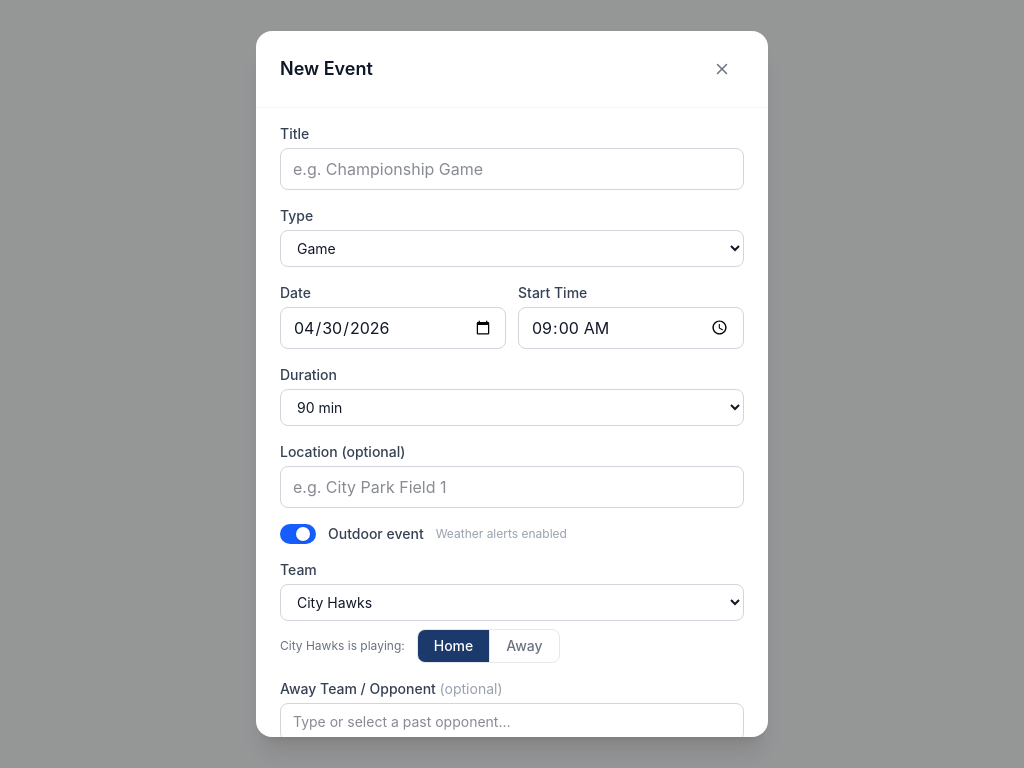
Test case: EventForm — required field validation › shows start time required error when startTime field is cleared and form submitted
Note: Clear the start time field (it has a default value)
Clear the time field labelled "Start Time" at point(631, 328), box [518,307,744,349]
(page scrolled)
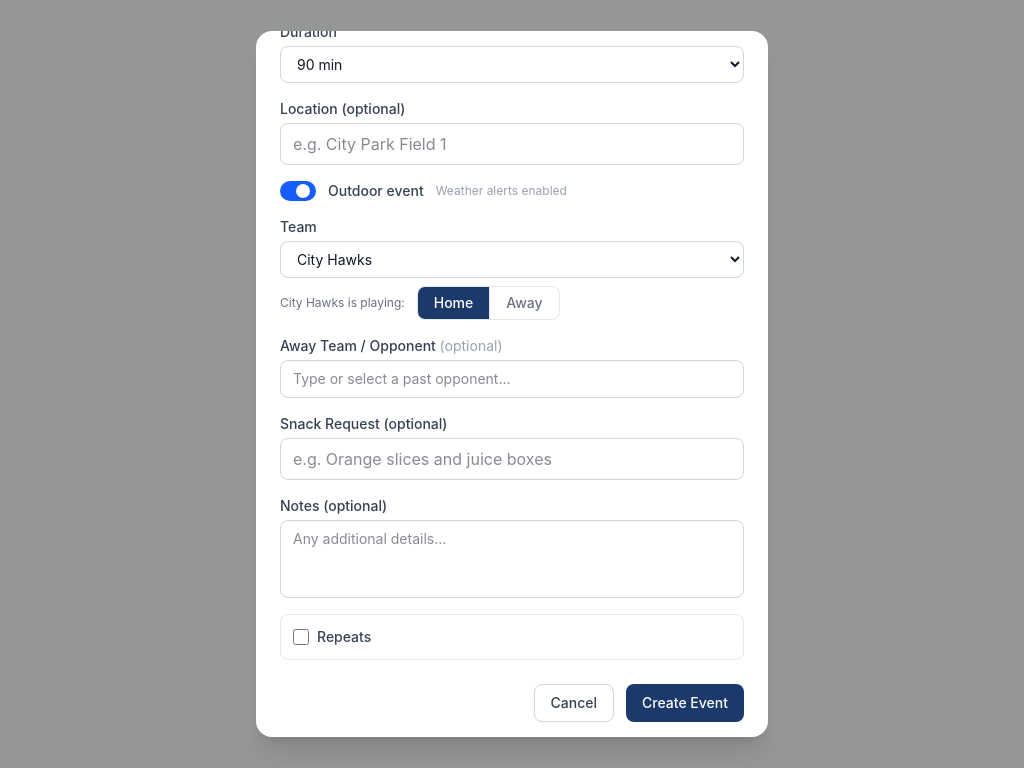
Click the button "Create Event" at point(685, 703), box [626,684,744,722]
(page scrolled)
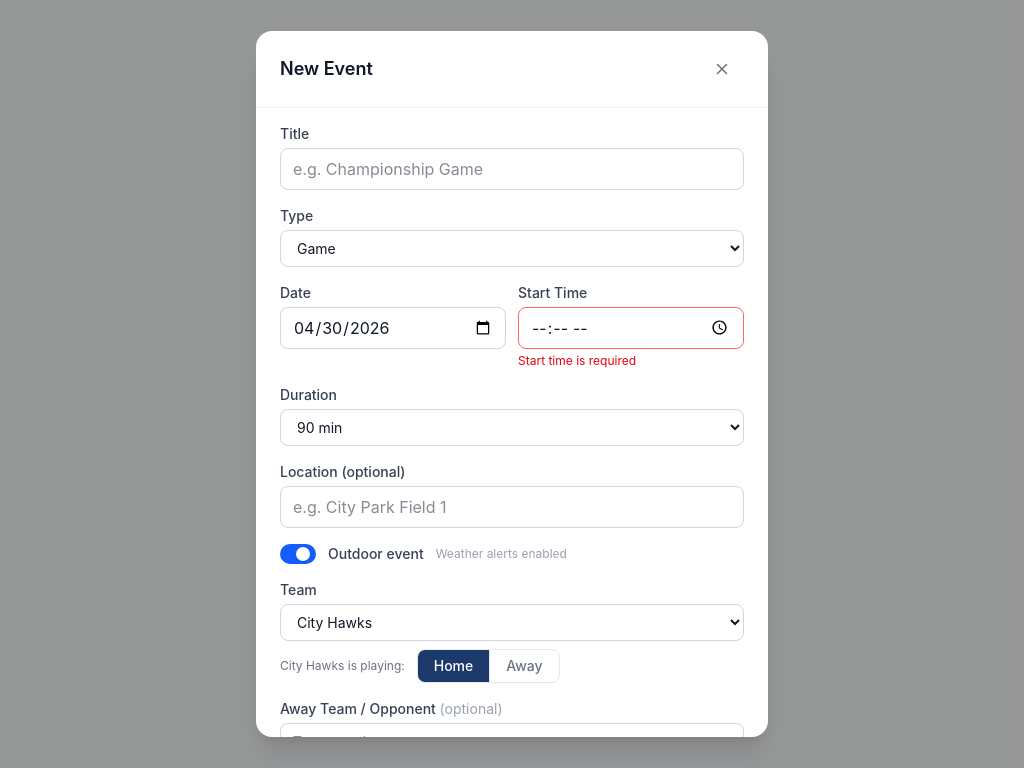
Check: the text "Start time is required" is shown, box [518,353,636,368]
